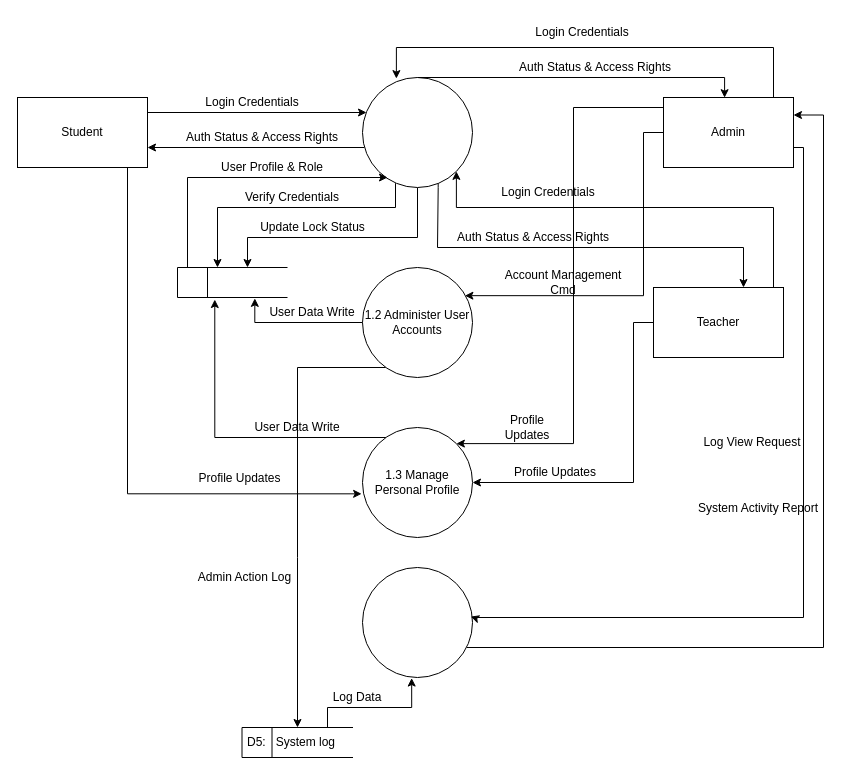
Image size: 851x775. Some labels were removed from this diagram. The shapes that lost their labels are listed below. From the top down, each one's centre as x and y in pixels, then its label:
the point at 417,132: 1.1 Login & Verify Credentials
the point at 232,282: D1: Users Table
the point at 417,622: 1.4 Monitor System Logs
